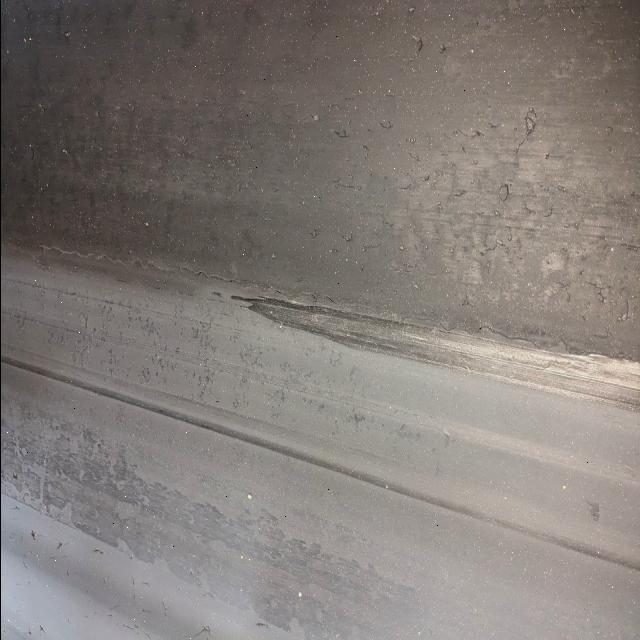Wear: (225, 288, 640, 412)
